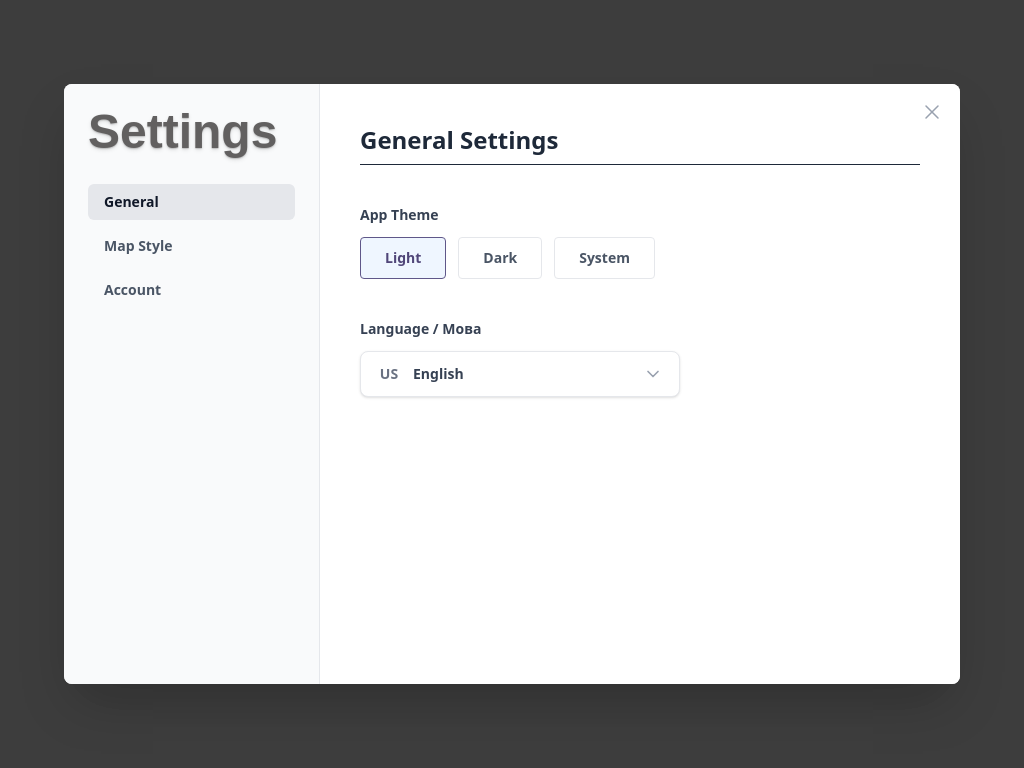
SettingsModal Component › shows 'Not logged in.' when there is no user
This screenshot has width=1024, height=768.
Step 1. Click the button "Account" → (192,290), box [88, 272, 295, 308]
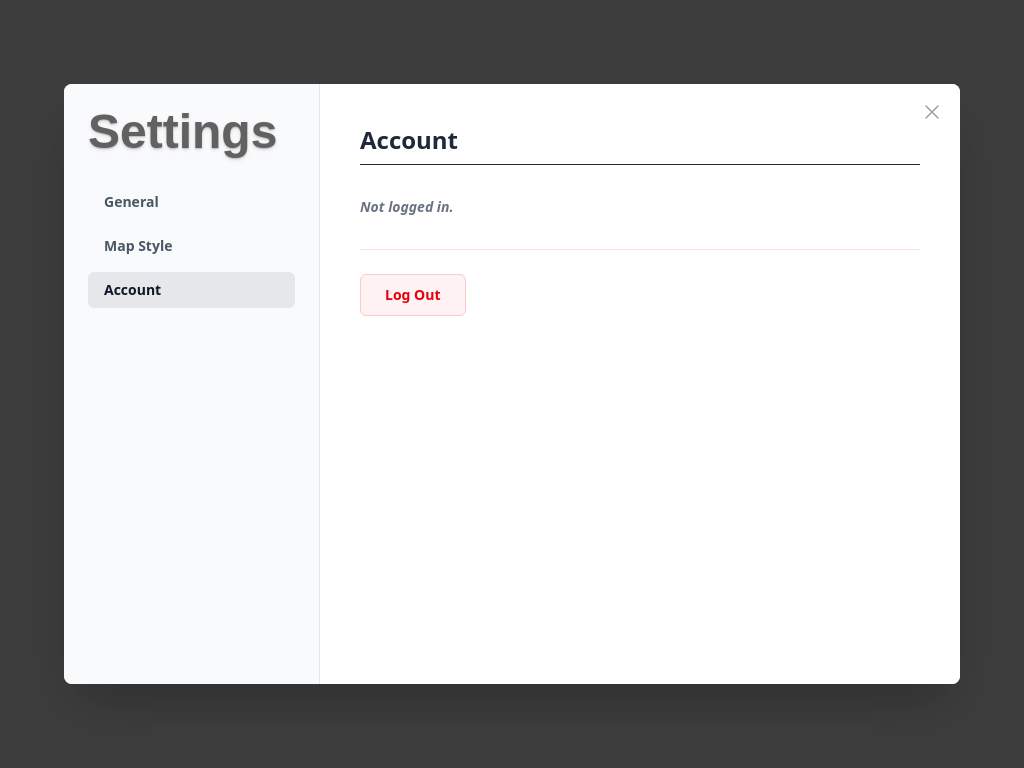
Now the text "Not logged in." is shown, box [360, 197, 454, 216]
